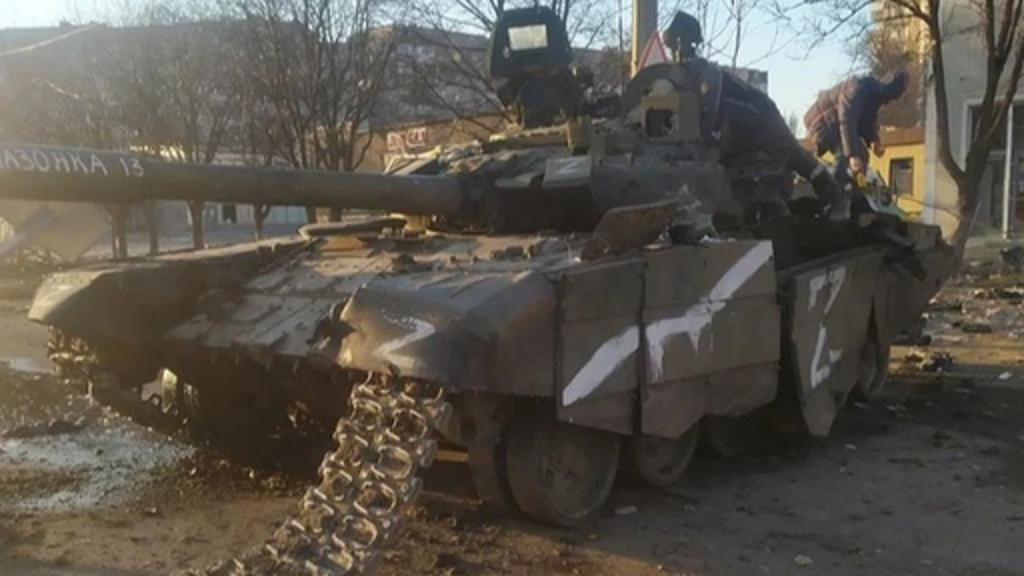TANK: (0, 6, 946, 528)
